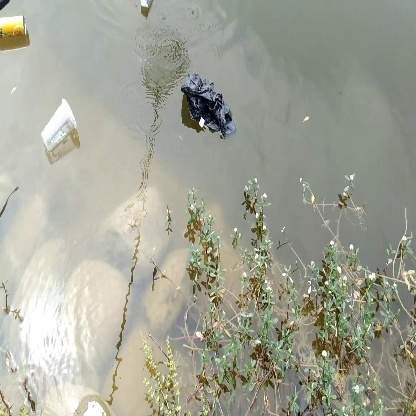bottle: (40, 98, 81, 153)
plastic-bag: (182, 70, 240, 144)
